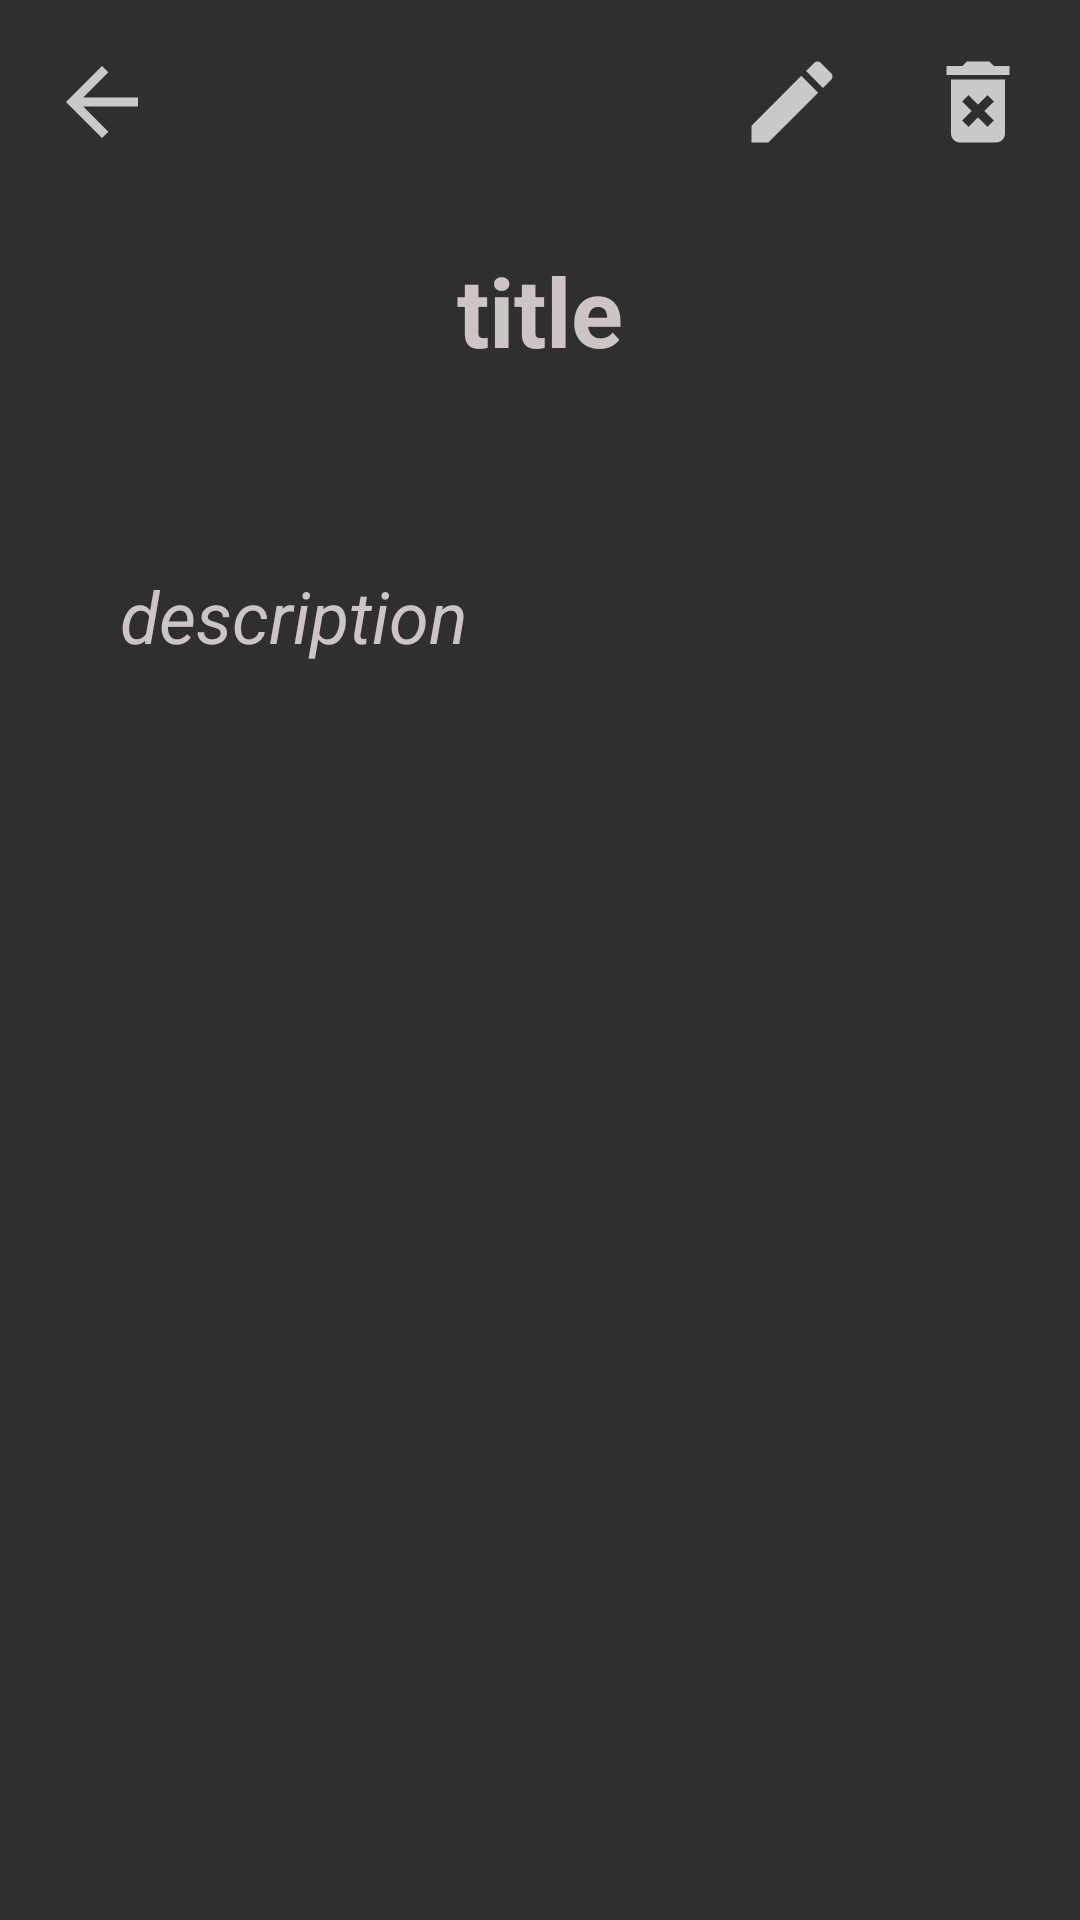

Icon bounding boxes for this 1080x1920 phone screenshot, format box(x1, y1, x2, y2):
delete forever: box(946, 61, 1010, 143)
edit: box(751, 61, 833, 143)
